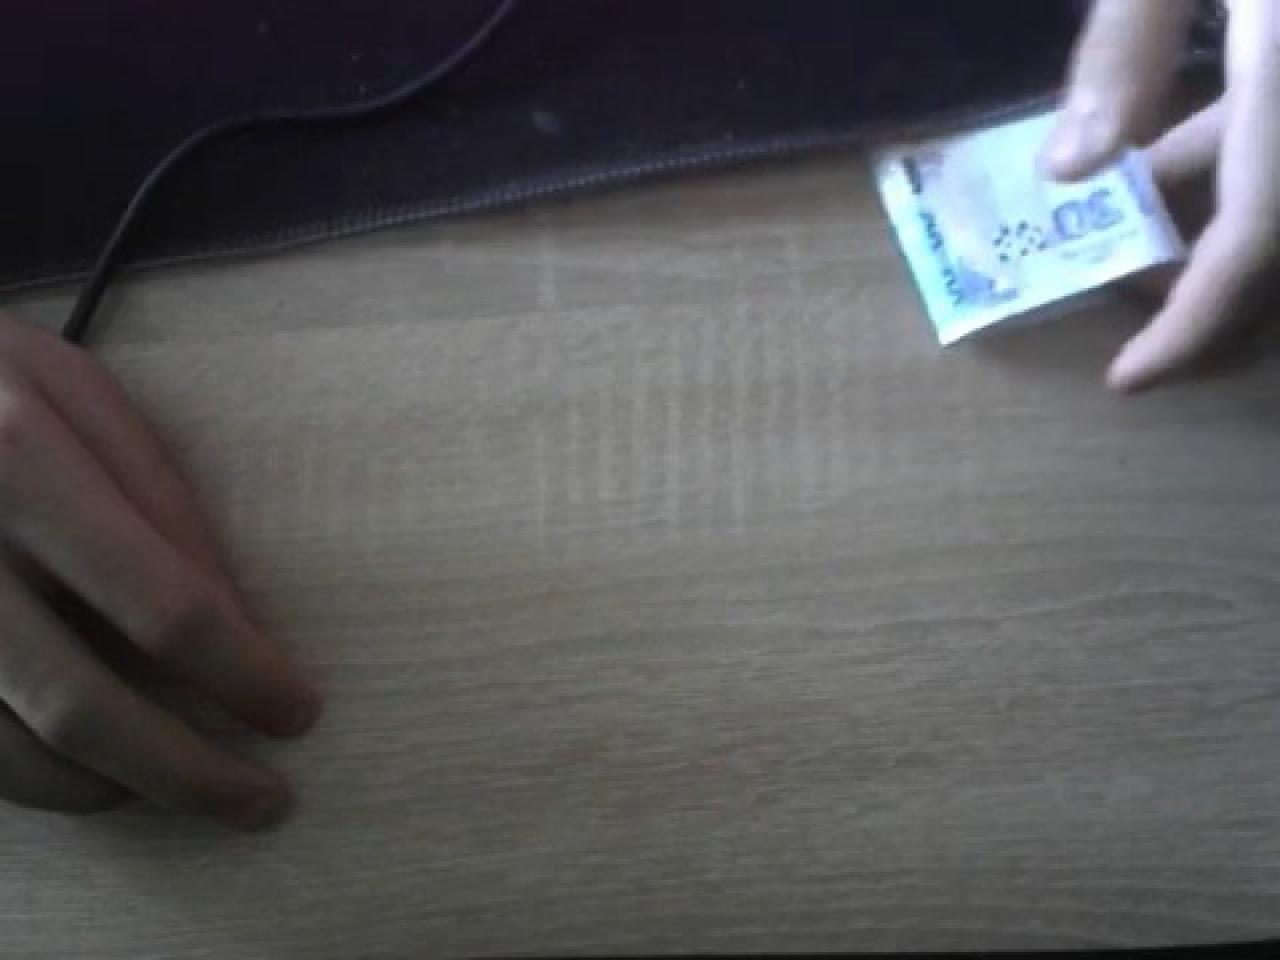20leva: (869, 86, 1191, 350)
